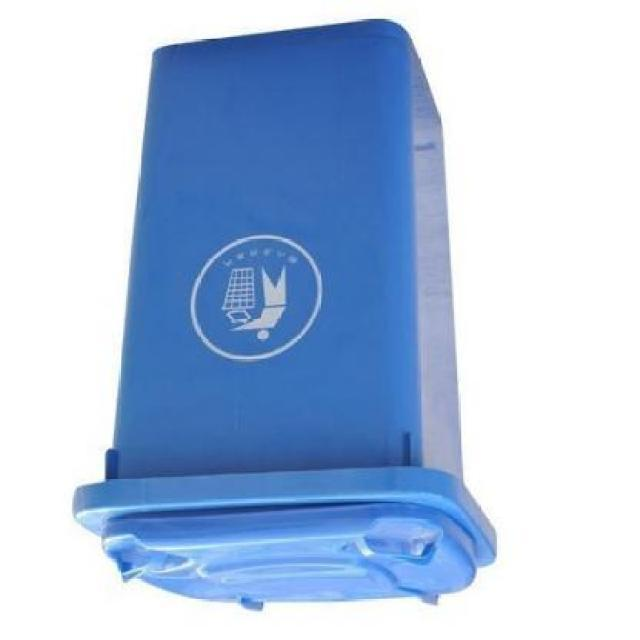garbage container: (62, 3, 518, 622)
